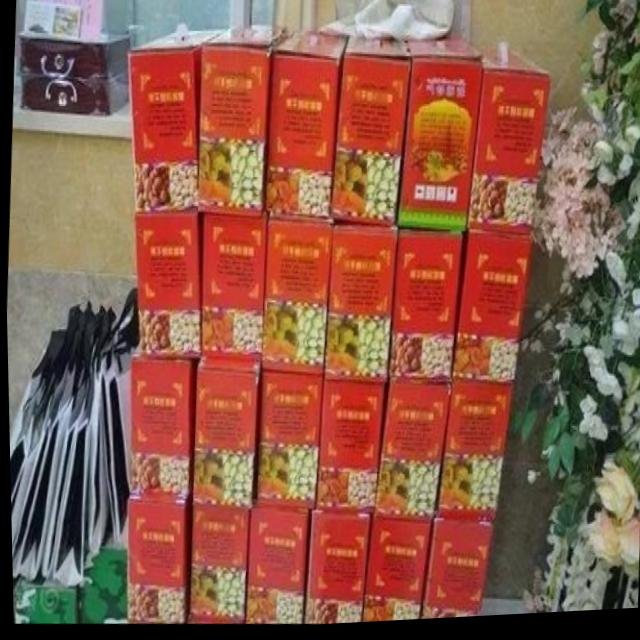box: (128, 25, 226, 214), (396, 38, 483, 235), (197, 28, 286, 219), (465, 46, 551, 243), (263, 30, 345, 225), (330, 41, 410, 230), (451, 235, 533, 387), (323, 227, 396, 388), (387, 232, 461, 386), (261, 223, 332, 379), (435, 386, 512, 525), (127, 344, 194, 503), (372, 388, 449, 525), (191, 364, 260, 511), (200, 216, 265, 367), (133, 215, 198, 360), (255, 375, 320, 514), (315, 383, 382, 516), (241, 503, 307, 627), (123, 500, 188, 624), (302, 514, 368, 627), (185, 506, 247, 626), (359, 520, 428, 626), (419, 523, 492, 623)
